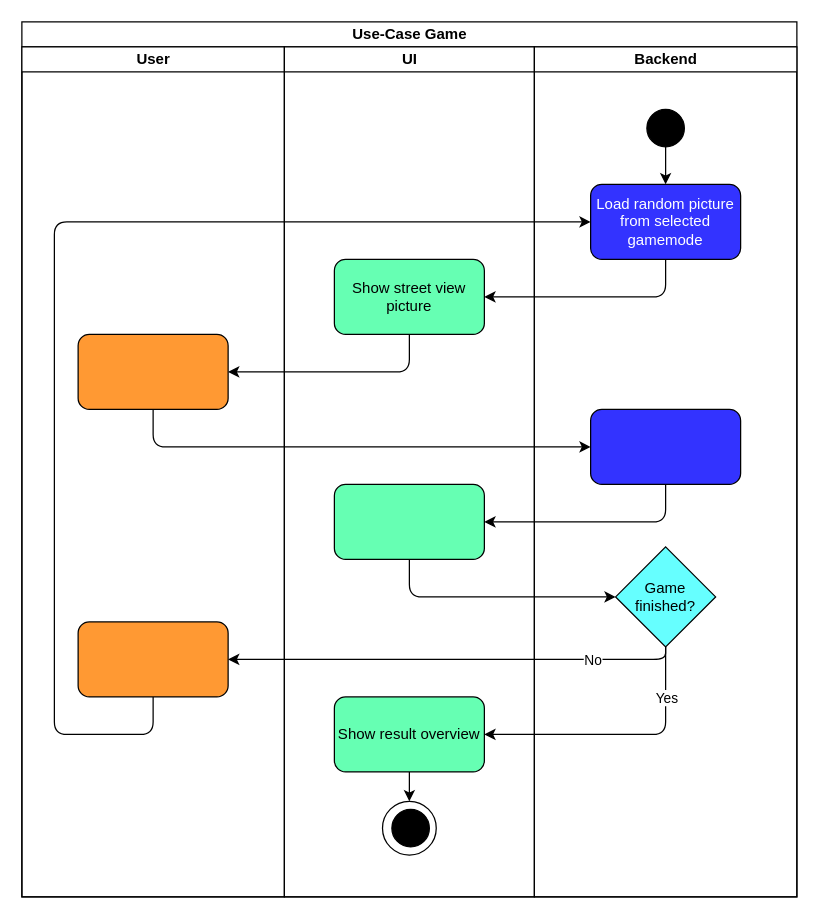
Image size: 819x919. Some labels were removed from this diagram. Here are the shapes that lost their labels. From the top down, the centre of each, then its label:
[152,371]: Select location on map
[665,446]: Calculate distance between selected location and correct location
[408,521]: Show solution, on map the airline between the two points
[152,659]: Select "Next Round"
